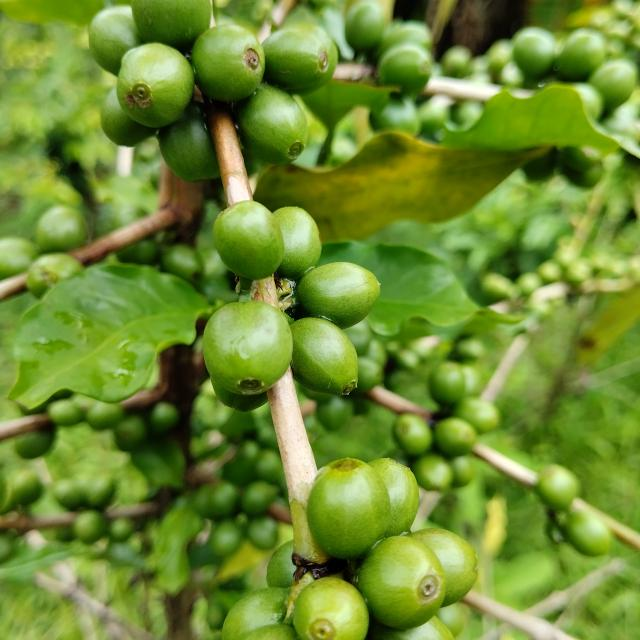green: (307, 458, 391, 560), (202, 301, 293, 395), (357, 536, 446, 631), (116, 42, 194, 127), (234, 83, 308, 164), (191, 23, 265, 102), (213, 200, 284, 280), (296, 262, 380, 329), (409, 529, 478, 608), (262, 22, 338, 93), (290, 318, 358, 396), (157, 100, 220, 182), (293, 578, 370, 640), (368, 459, 420, 538), (130, 0, 211, 50), (88, 5, 140, 75), (272, 206, 321, 279), (222, 588, 290, 640), (100, 86, 157, 146), (378, 42, 434, 93), (25, 253, 82, 298), (394, 414, 433, 457), (266, 541, 296, 589), (243, 625, 299, 640)
